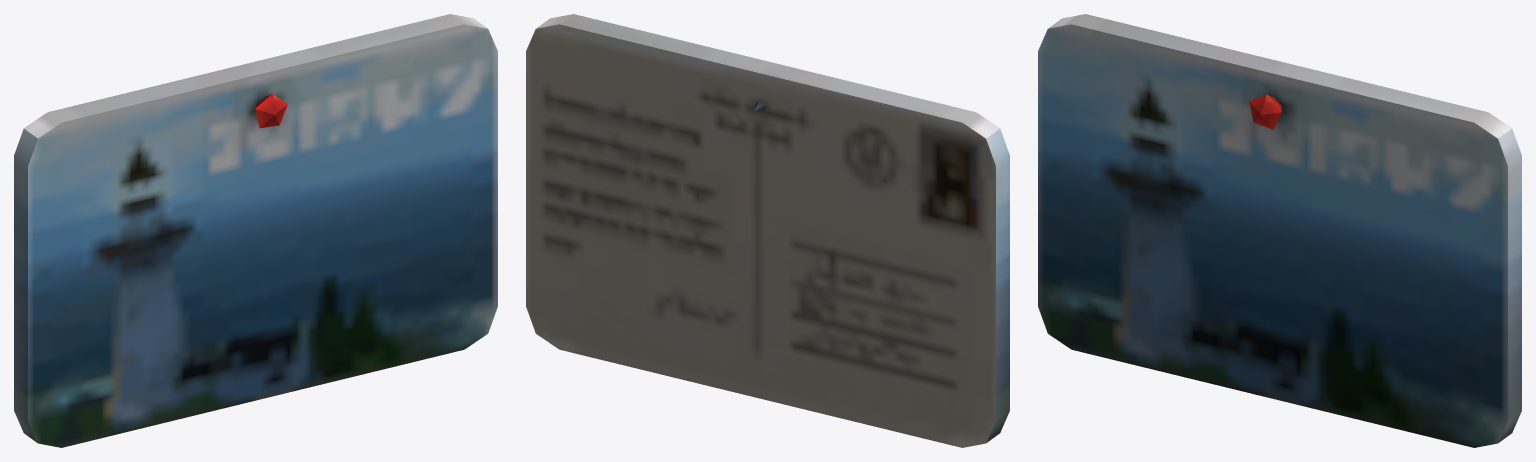
The model's file is postal5.2.fbx.
The picture shows the model from 3 angles, left to right: view 1: azimuth 30°, elevation 25°; view 2: azimuth 150°, elevation 25°; view 3: azimuth 330°, elevation 25°; orthographic projection.
Visible parts, largest first — view 1: s4studio_mesh_0; view 2: s4studio_mesh_0; view 3: s4studio_mesh_0.
Part boxes in pixels (<box>): s4studio_mesh_0: <box>14,14,497,447</box>; s4studio_mesh_0: <box>526,14,1009,447</box>; s4studio_mesh_0: <box>1038,14,1521,447</box>.
Size of the model in its own units: 24.03 by 15.9 by 2.99.
Materials: 1 (1 with a texture image).
